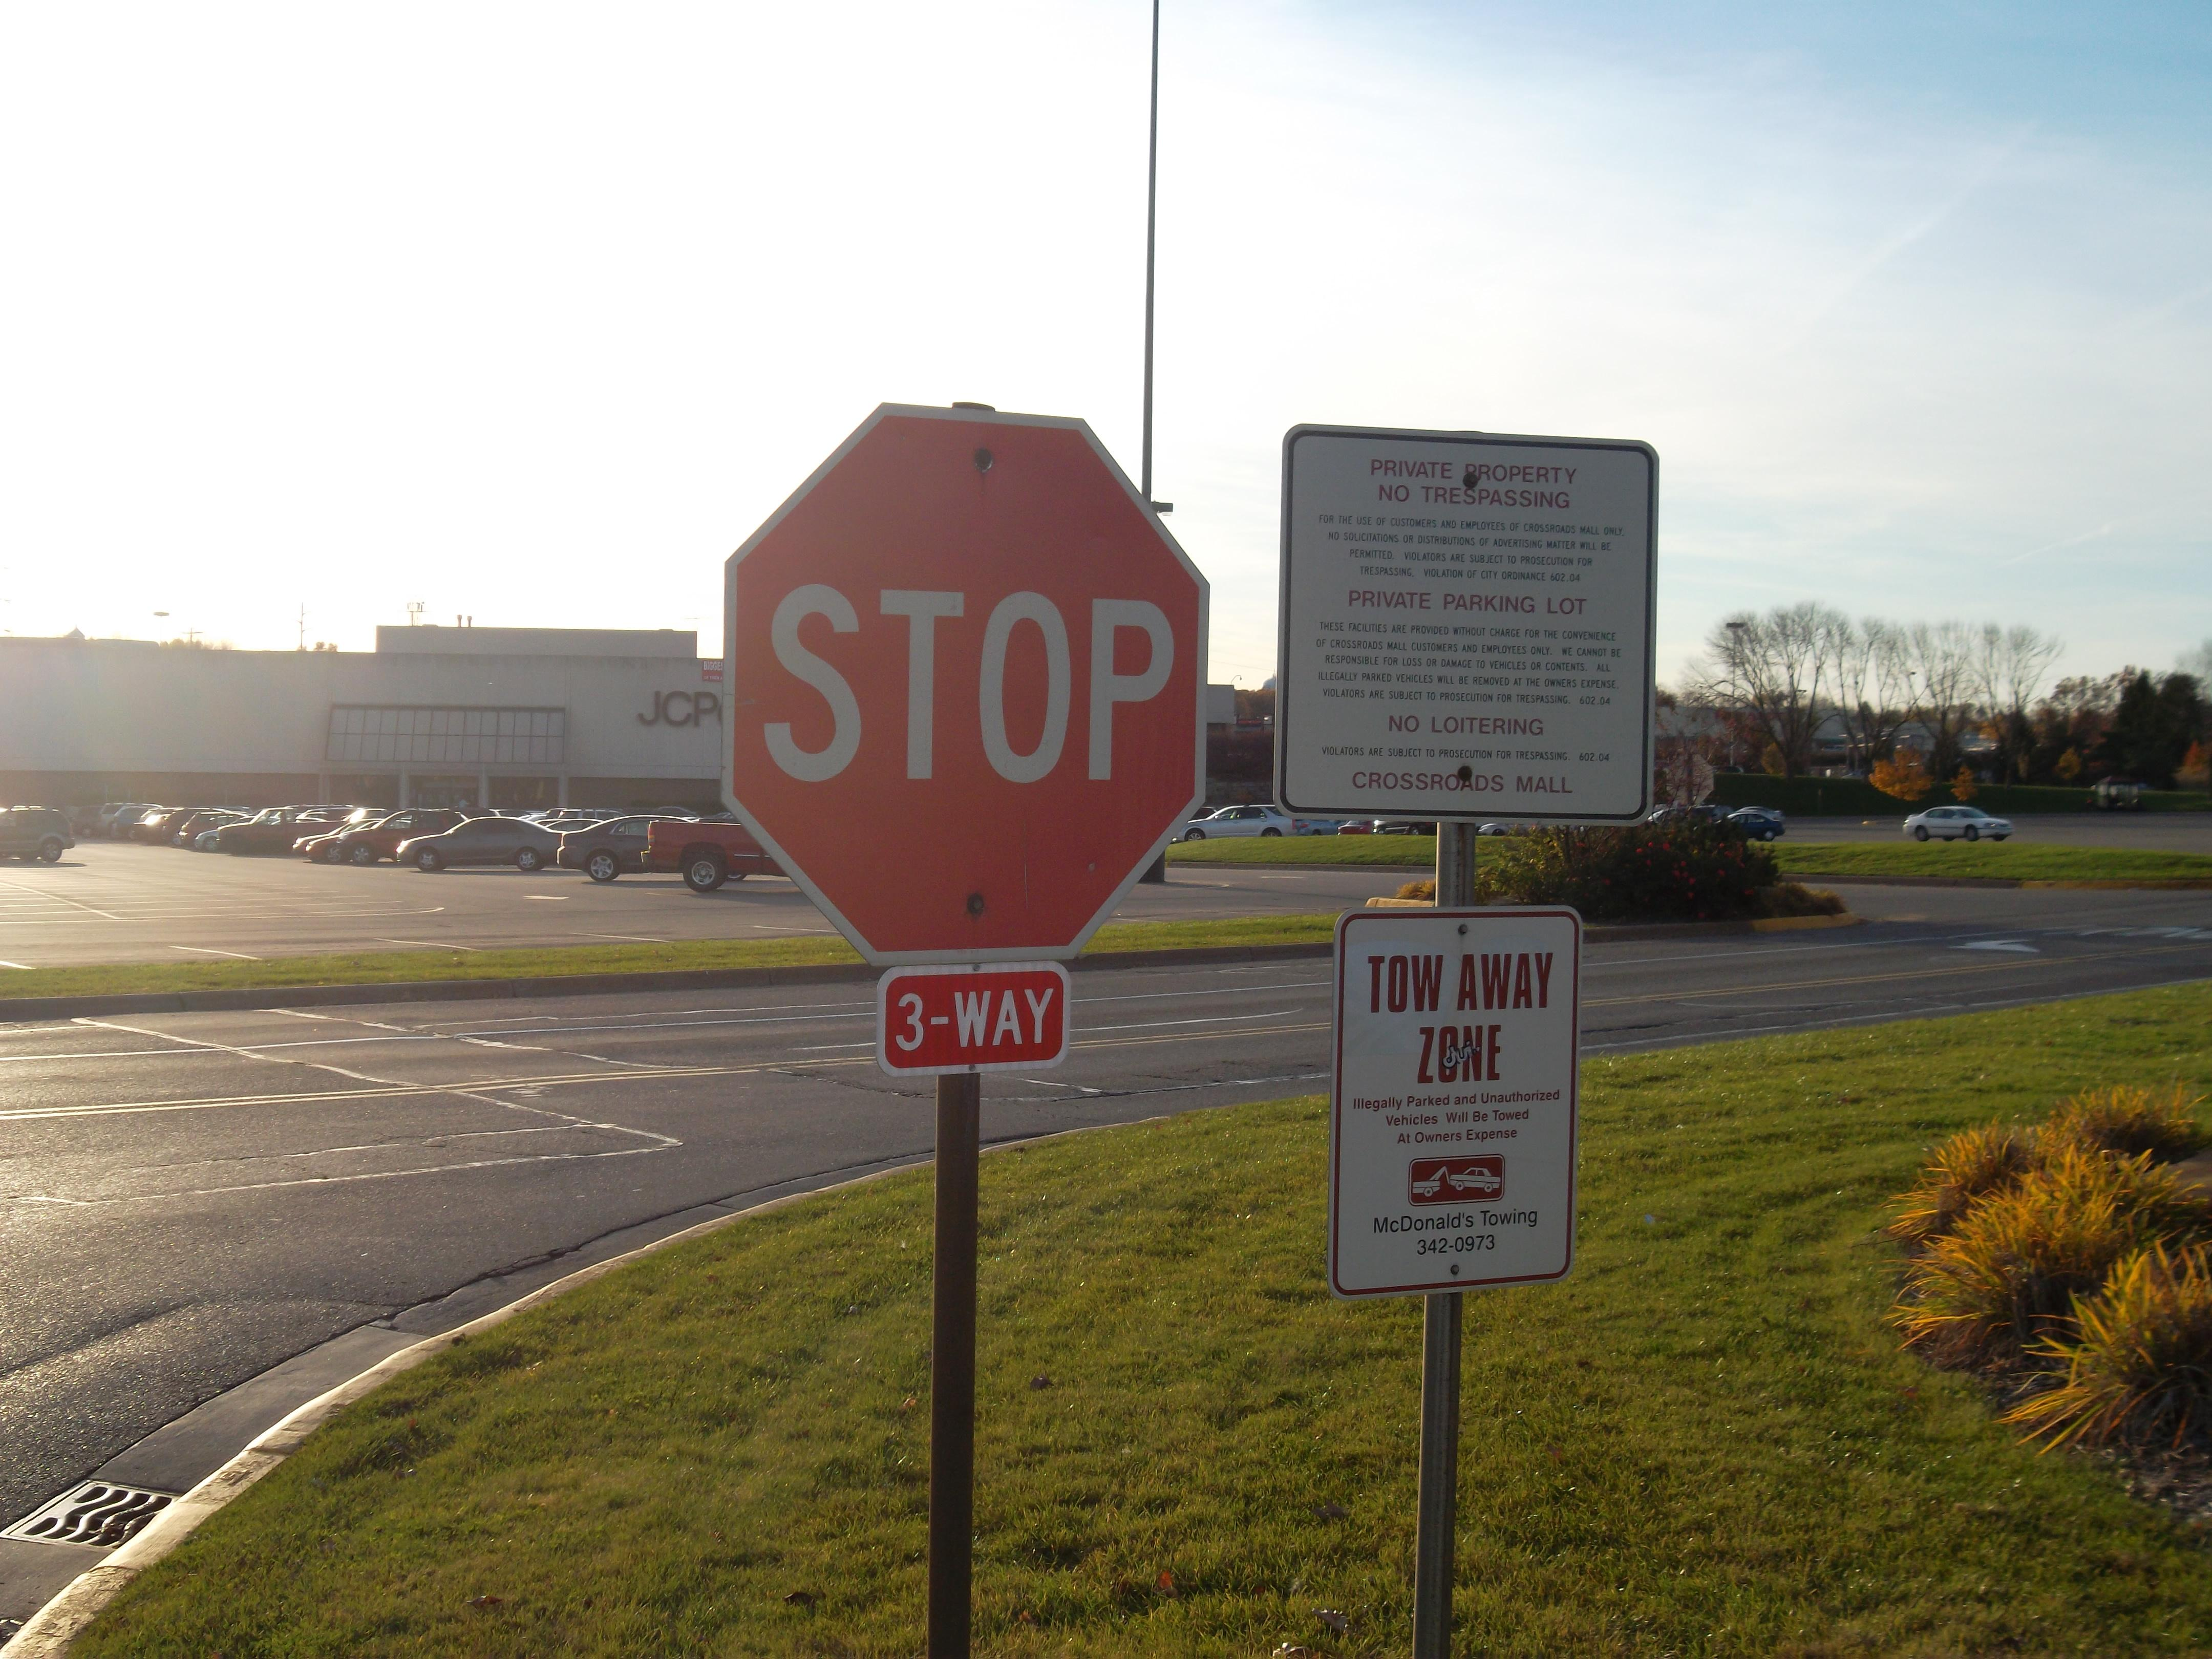stop: (705, 390, 1230, 960)
